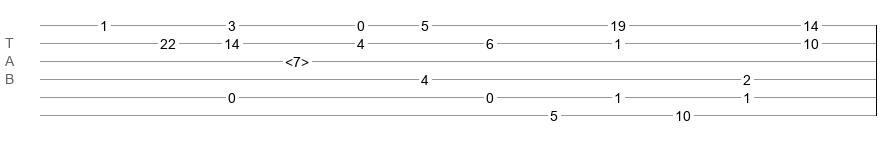0: (228, 90, 236, 100), (357, 18, 365, 28), (486, 90, 494, 100)
1: (100, 18, 108, 28), (614, 36, 622, 46), (614, 90, 622, 100), (743, 90, 751, 100)
10: (675, 108, 691, 118), (803, 36, 819, 46)
14: (224, 36, 240, 46), (803, 18, 819, 28)
19: (610, 18, 626, 28)
2: (743, 72, 751, 82)
22: (160, 36, 176, 46)
3: (228, 18, 236, 28)
4: (357, 36, 365, 46), (421, 72, 429, 82)
5: (421, 18, 429, 28), (550, 108, 558, 118)
6: (486, 36, 494, 46)
harmonic: (285, 54, 309, 64)
